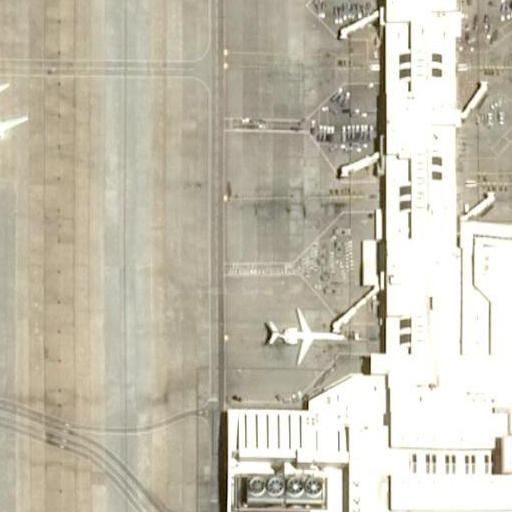Aircraft: (260, 299, 349, 366), (0, 73, 31, 167)
